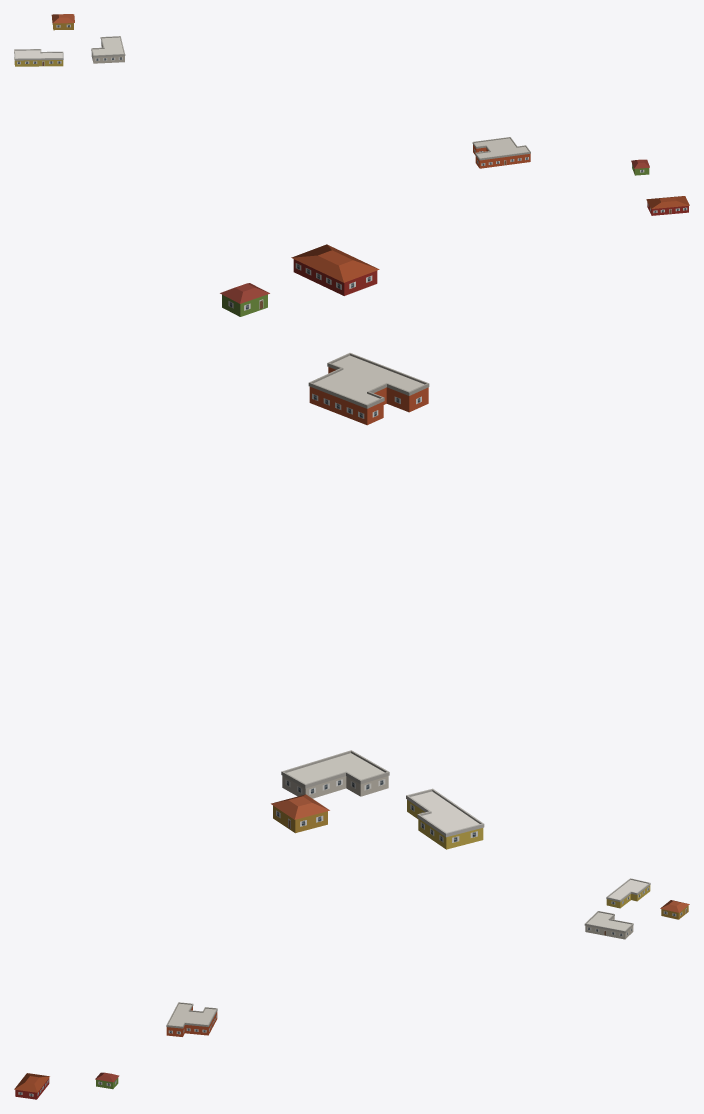
The model's file is msb_noord_m14_m15.glb.
The picture shows the model from 3 angles, top to bottom: view 1: azimuth 30°, elevation 25°; view 2: azimuth 150°, elevation 25°; view 3: azimuth 270°, elevation 25°; orthographic projection. The views are drawn at different scales.
Parts seen in each view (by area): view 1: msb_noord_m14_m15_lod0; view 2: msb_noord_m14_m15_lod0; view 3: msb_noord_m14_m15_lod0.
Part boxes in pixels (x1=…): msb_noord_m14_m15_lod0: x1=14, y1=14, x2=689, y2=215; msb_noord_m14_m15_lod0: x1=220, y1=244, x2=484, y2=849; msb_noord_m14_m15_lod0: x1=14, y1=878, x2=689, y2=1099.
Size of what is drawn, in the model's own units: 196 by 18.4 by 290.
3 materials, 1 textured.
